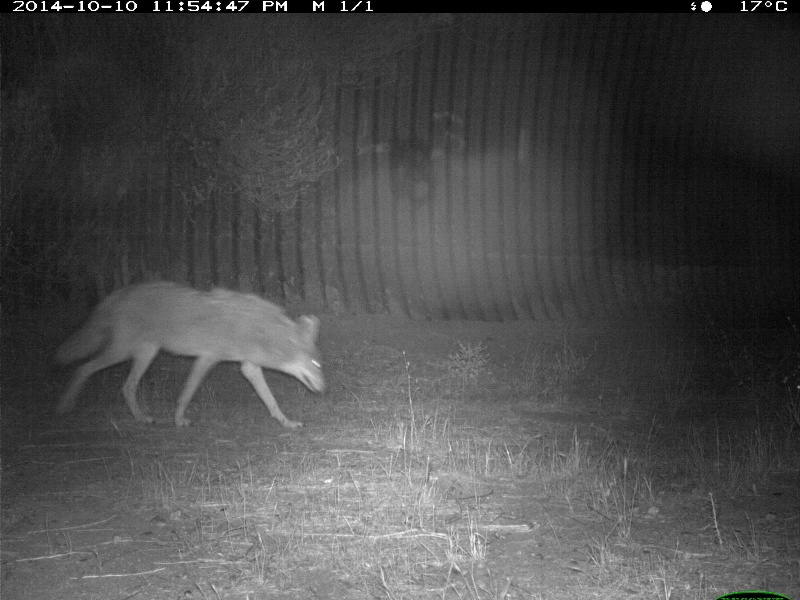coyote: (49, 276, 330, 436)
